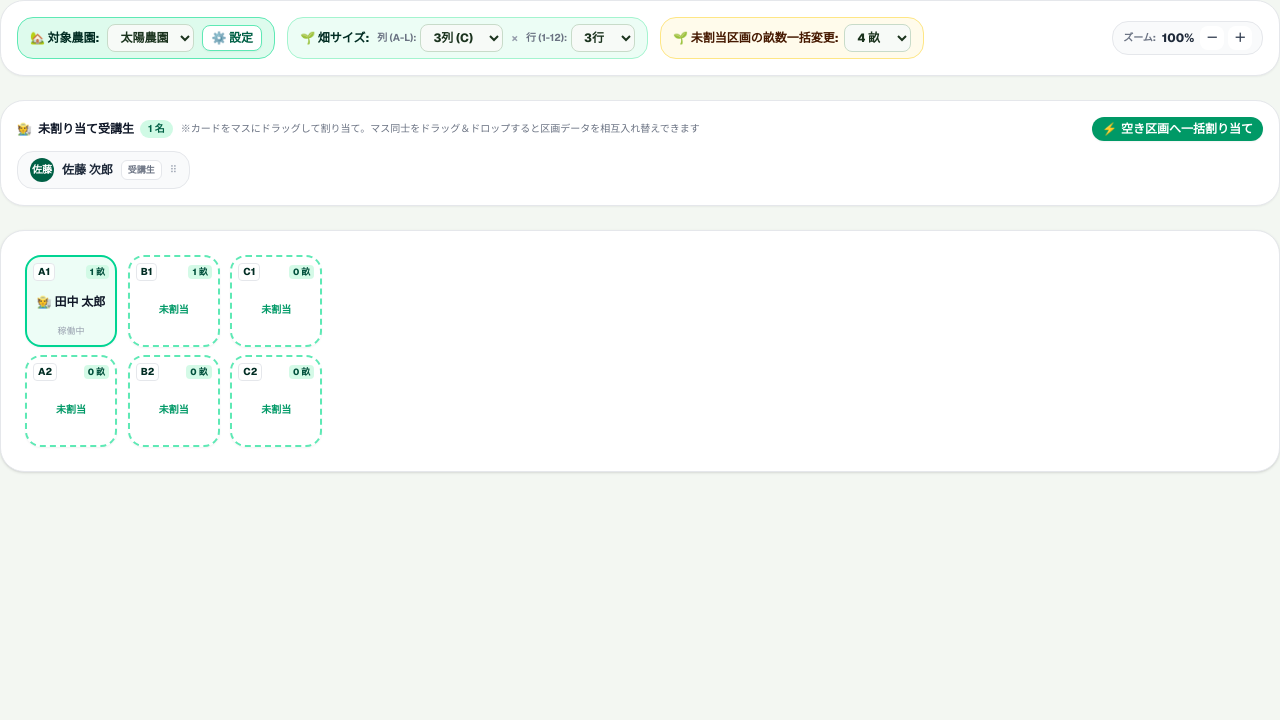
Scenario: PR-1: TeacherFarmCanvasView 特性テスト › 2. 区画クリックで詳細モーダルが開くこと
The image size is (1280, 720).
Expected: the text "A1" is shown, x1=38 y1=265 x2=50 y2=278
Step 1. Click the text "A1" → (71, 301), box x1=25 y1=255 x2=117 y2=347
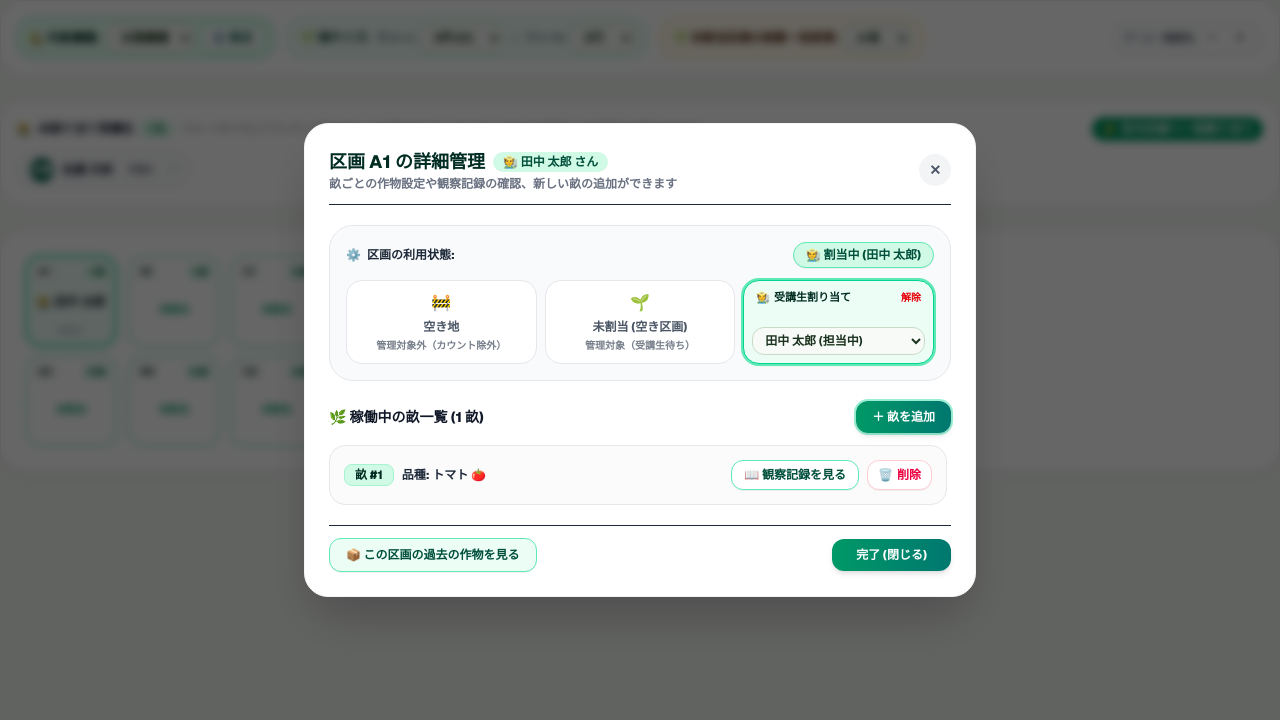
Expected: the text "区画 A1 の詳細管理" is shown, x1=329 y1=148 x2=485 y2=176
Expected: the text "🧑‍🌾 田中 太郎 さん" is shown, x1=493 y1=152 x2=608 y2=172
